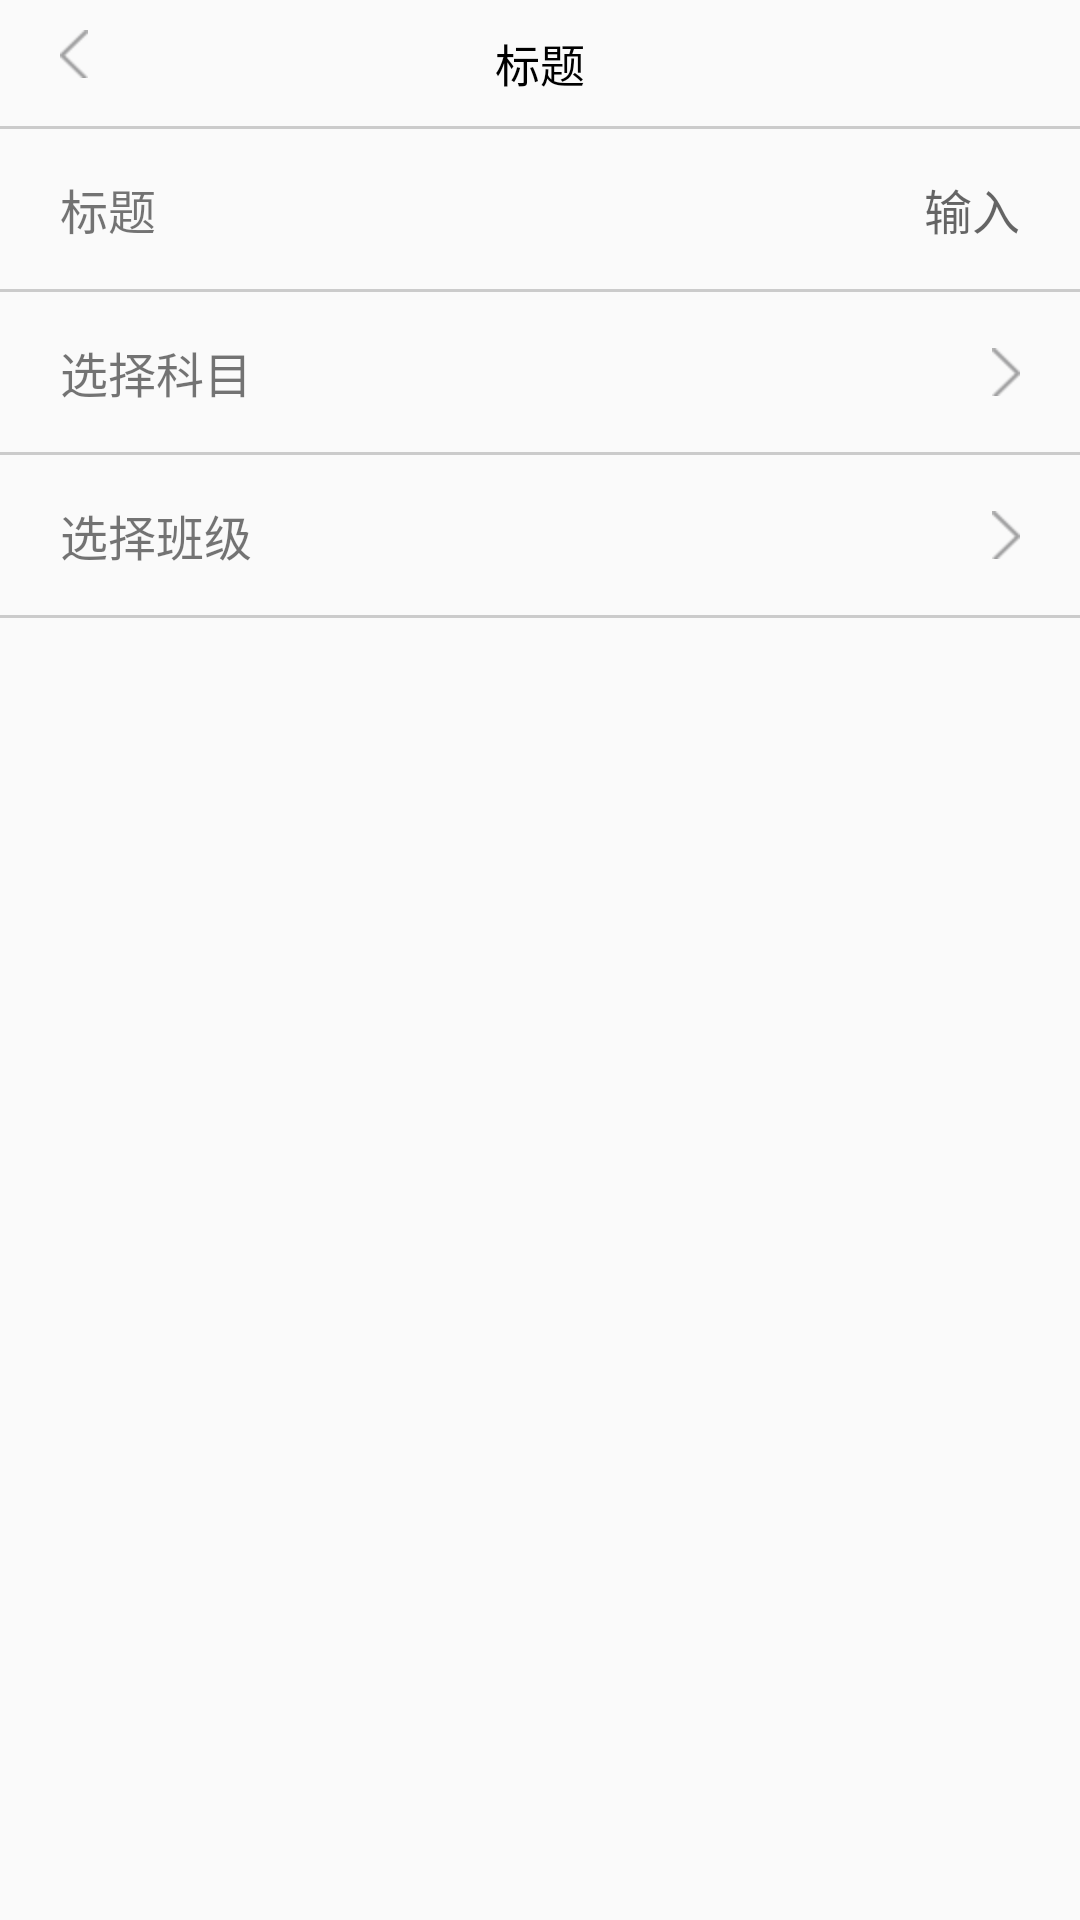

Icons on this 1080×1920 Android screen, each with the point to tap as (x=x, y=y):
back: (x=74, y=54)
next: (x=1006, y=372), (x=1006, y=535)
